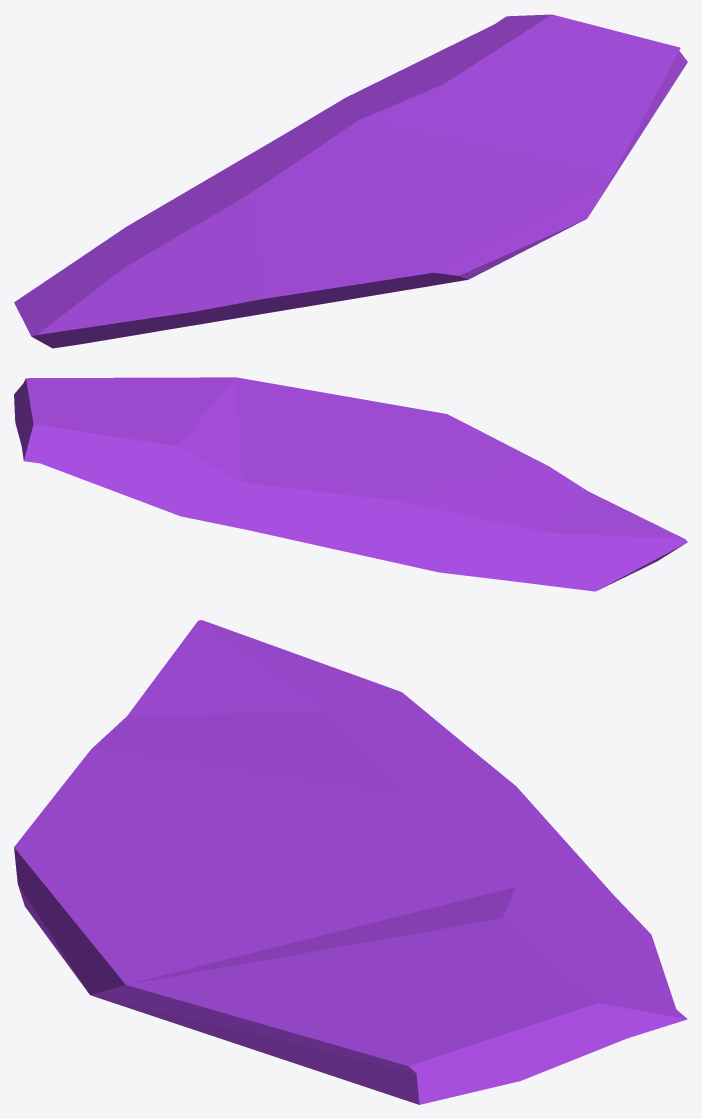
The model's file is Glass_100_1_2_chunks.fbx.
3 renders of one model, top to bottom at view 1: azimuth 30°, elevation 25°; view 2: azimuth 150°, elevation 25°; view 3: azimuth 270°, elevation 25°, orthographic. The views are drawn at different scales.
Parts seen in each view (by area): view 1: Glass_100_1_2_7, Glass_100_1_2_5, Glass_100_1_2_6, Glass_100_1_2_12, Glass_100_1_2_8, Glass_100_1_2_15, Glass_100_1_2_10, Glass_100_1_2_14, Glass_100_1_2_13, Glass_100_1_2_11, Glass_100_1_2_0, Glass_100_1_2_3 (+2 smaller); view 2: Glass_100_1_2_7, Glass_100_1_2_6, Glass_100_1_2_13, Glass_100_1_2_5, Glass_100_1_2_12, Glass_100_1_2_0, Glass_100_1_2_3, Glass_100_1_2_14, Glass_100_1_2_15, Glass_100_1_2_8, Glass_100_1_2_10, Glass_100_1_2_11 (+2 smaller); view 3: Glass_100_1_2_7, Glass_100_1_2_5, Glass_100_1_2_6, Glass_100_1_2_12, Glass_100_1_2_15, Glass_100_1_2_14, Glass_100_1_2_10, Glass_100_1_2_13, Glass_100_1_2_8, Glass_100_1_2_0, Glass_100_1_2_11, Glass_100_1_2_3 (+2 smaller).
Boxes of the visible parts, x1,y1,x2,y2 form: Glass_100_1_2_7: [446, 14, 687, 131]; Glass_100_1_2_5: [401, 115, 642, 233]; Glass_100_1_2_6: [334, 71, 487, 198]; Glass_100_1_2_12: [18, 268, 234, 348]; Glass_100_1_2_8: [261, 237, 499, 308]; Glass_100_1_2_15: [169, 215, 330, 311]; Glass_100_1_2_10: [351, 191, 556, 263]; Glass_100_1_2_14: [173, 177, 352, 248]; Glass_100_1_2_13: [14, 216, 187, 311]; Glass_100_1_2_11: [218, 193, 377, 321]; Glass_100_1_2_0: [108, 157, 298, 239]; Glass_100_1_2_3: [238, 82, 376, 161]; Glass_100_1_2_7: [14, 377, 199, 467]; Glass_100_1_2_6: [138, 428, 351, 504]; Glass_100_1_2_13: [425, 512, 619, 591]; Glass_100_1_2_5: [141, 377, 345, 445]; Glass_100_1_2_12: [531, 480, 687, 582]; Glass_100_1_2_0: [307, 487, 465, 575]; Glass_100_1_2_3: [150, 482, 316, 542]; Glass_100_1_2_14: [338, 465, 494, 543]; Glass_100_1_2_15: [397, 466, 569, 513]; Glass_100_1_2_8: [385, 403, 550, 467]; Glass_100_1_2_10: [329, 393, 413, 464]; Glass_100_1_2_11: [356, 443, 553, 469]; Glass_100_1_2_7: [254, 927, 687, 1104]; Glass_100_1_2_5: [72, 868, 388, 1056]; Glass_100_1_2_6: [256, 846, 658, 957]; Glass_100_1_2_12: [111, 620, 348, 730]; Glass_100_1_2_15: [95, 726, 314, 824]; Glass_100_1_2_14: [270, 743, 467, 848]; Glass_100_1_2_10: [40, 837, 319, 971]; Glass_100_1_2_13: [278, 673, 495, 786]; Glass_100_1_2_8: [14, 748, 164, 929]; Glass_100_1_2_0: [403, 770, 583, 861]; Glass_100_1_2_11: [93, 745, 315, 846]; Glass_100_1_2_3: [472, 843, 656, 950].
Bounding box in the file's own units: 1308 × 168 × 665.
